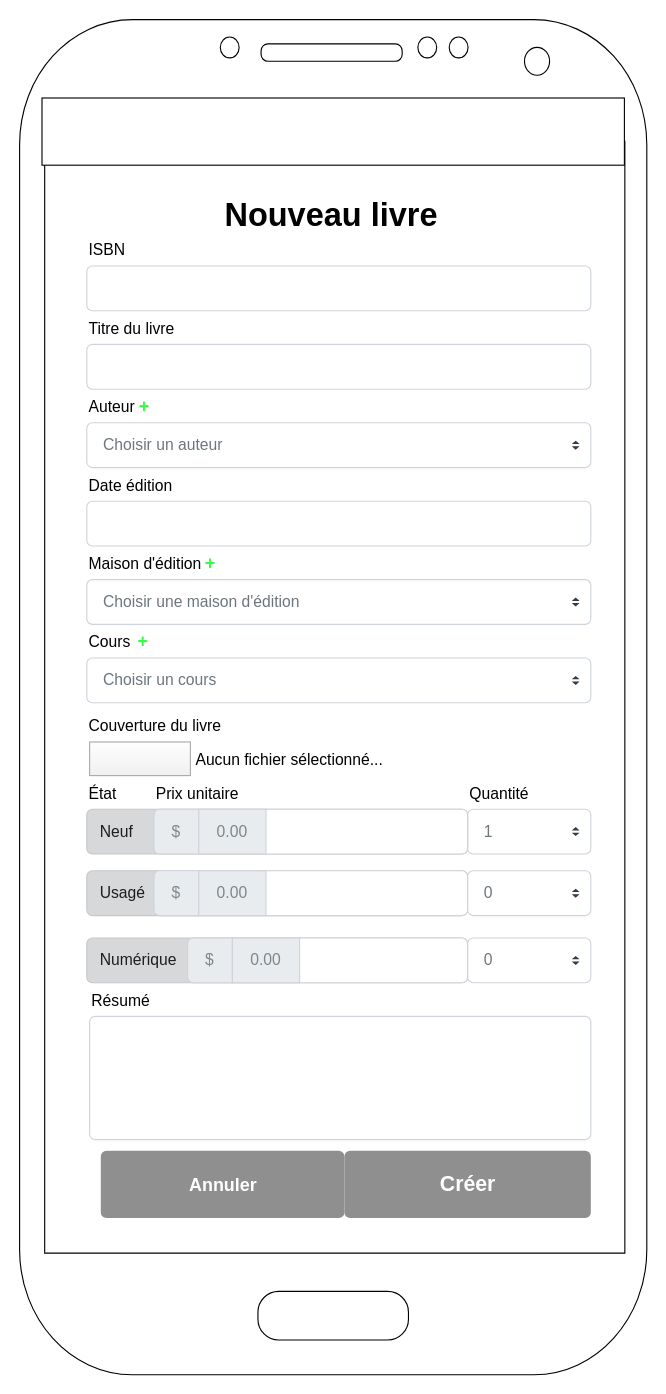
The diagram is 666 pixels wide and 1394 high, and some of its shapes have lost their labels. Here are the shapes that lost their labels. From the top down, the centre of each, then its label:
At (332,131): "Barre de navigation".
At (139,758): "Choisir image".
